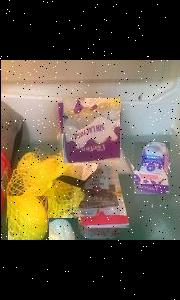Limón: (6, 196, 47, 240)
Queso: (63, 98, 120, 163)
Yogur: (132, 142, 168, 194)
